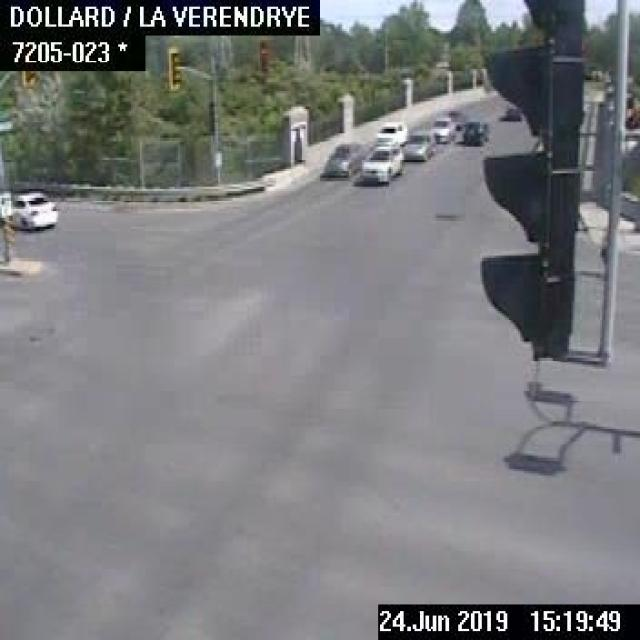vehicle: (0, 187, 55, 229), (356, 143, 404, 185), (320, 141, 353, 178), (402, 129, 437, 161), (459, 118, 488, 145), (374, 121, 406, 145), (431, 114, 452, 142), (498, 100, 522, 124)
